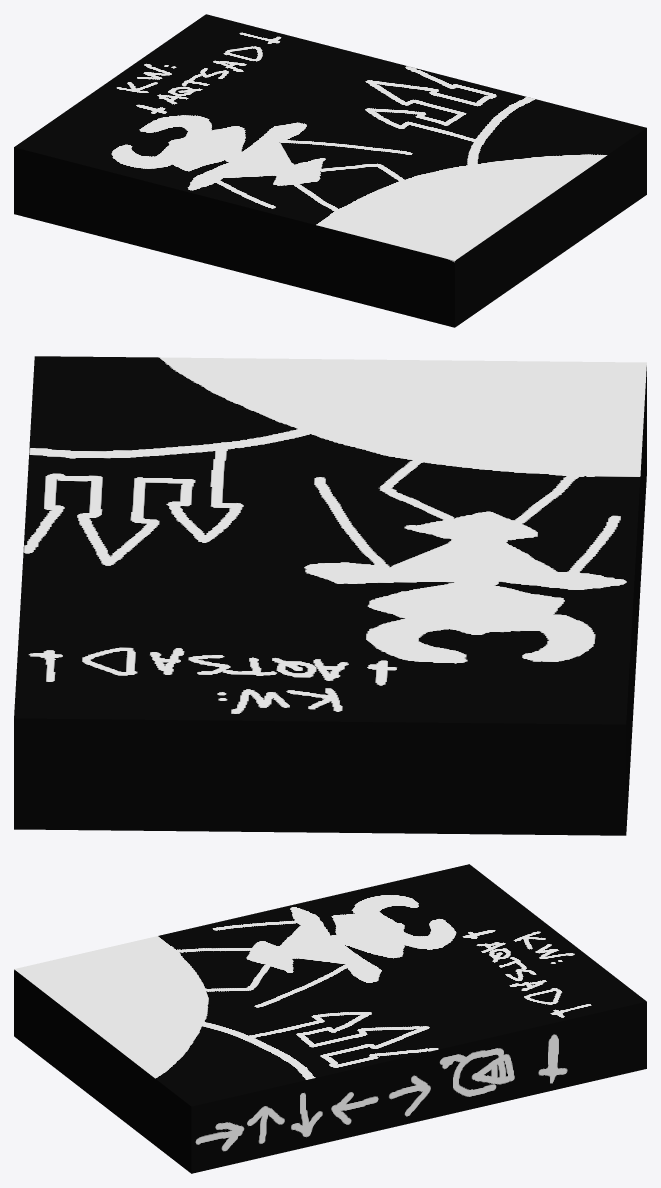
The model's file is default_game.fbx.
3 views of the same model, one above another, from view 1: azimuth 30°, elevation 25°; view 2: azimuth 150°, elevation 25°; view 3: azimuth 270°, elevation 25° (orthographic). The views are drawn at different scales.
Parts seen in each view (by area): view 1: DefaultGame; view 2: DefaultGame; view 3: DefaultGame.
Part boxes in pixels (<box>): DefaultGame: <box>14,14,646,327</box>; DefaultGame: <box>14,356,646,835</box>; DefaultGame: <box>14,864,646,1173</box>.
Bounding box in the file's own units: 77.42 × 10 × 85.4.
1 material, 1 textured.
